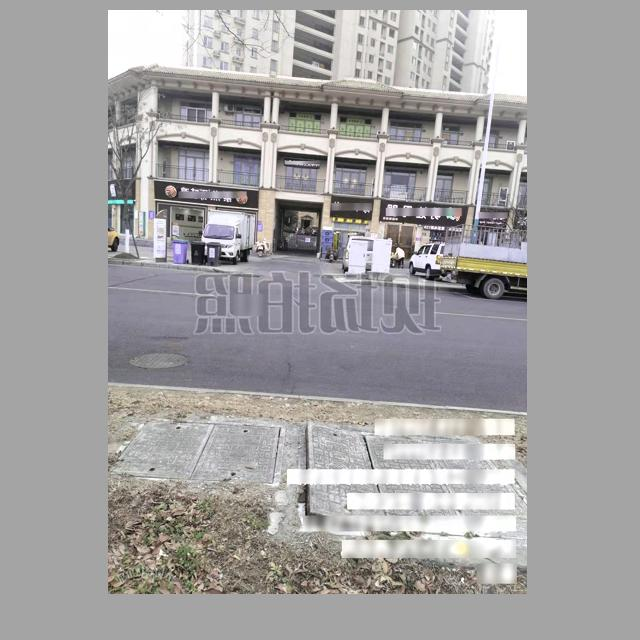good: (109, 414, 286, 492)
uncovered: (301, 423, 524, 545)
